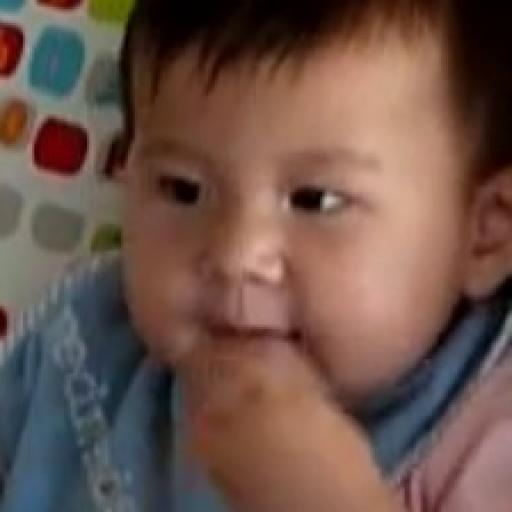Autism: (120, 6, 512, 445)
